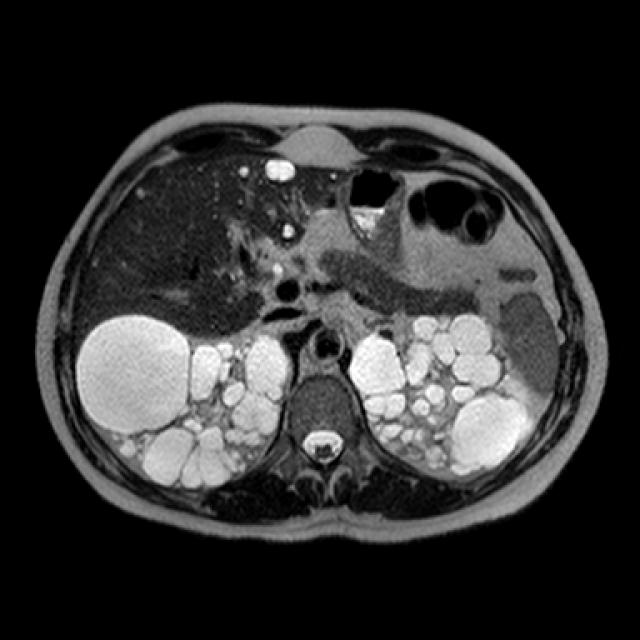sag: (73, 315, 291, 491)
sol: (346, 311, 540, 479)
